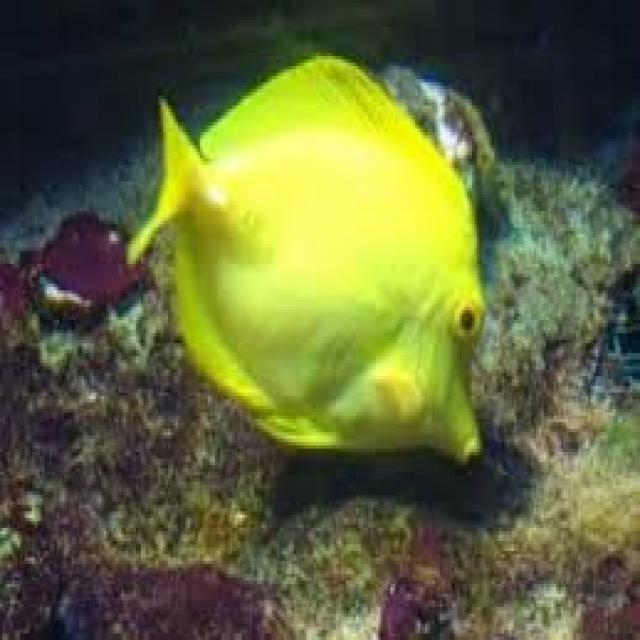YellowTang: (116, 47, 500, 486)
